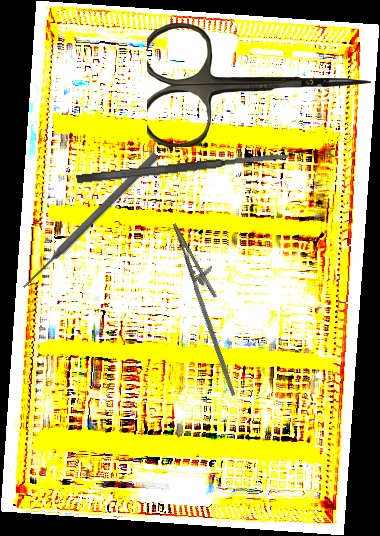Iris Scissors: (147, 23, 371, 147)
Needle Holder: (152, 216, 268, 397)
Pusher: (19, 150, 161, 292)
Spatula Surgical: (75, 150, 290, 186)
